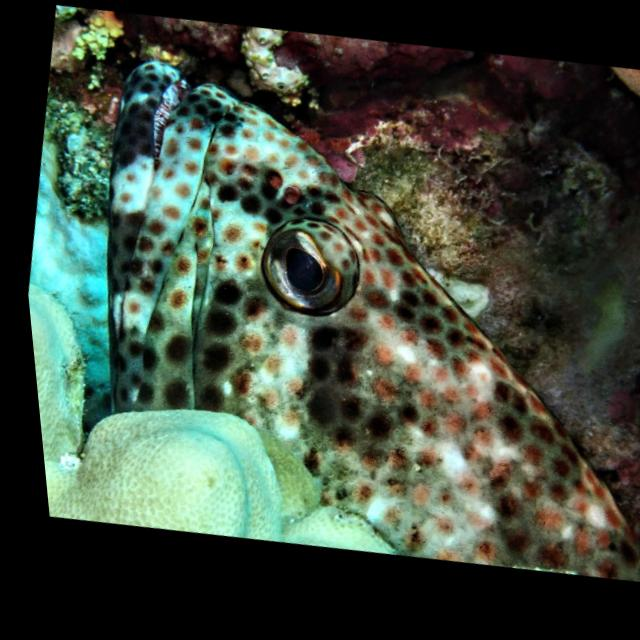Groupers: (32, 14, 640, 628)
